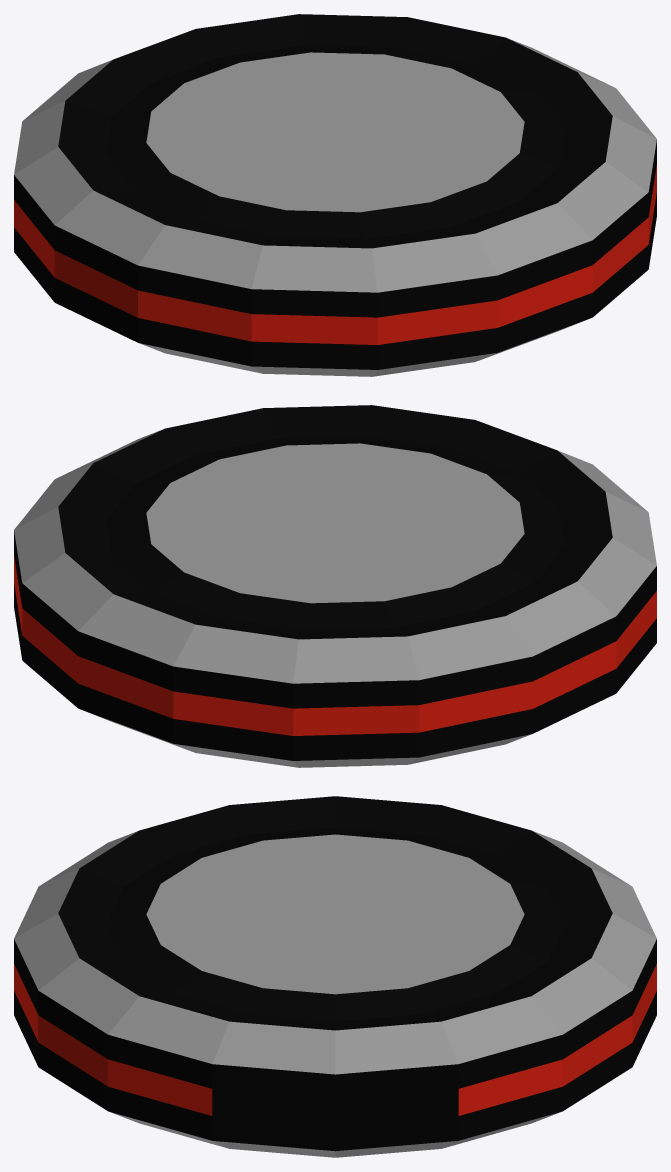
File: RoombaModel.fbx
3 renders of one model, top to bottom at view 1: azimuth 30°, elevation 25°; view 2: azimuth 150°, elevation 25°; view 3: azimuth 270°, elevation 25°, orthographic.
Parts seen in each view (by area): view 1: Romba; view 2: Romba; view 3: Romba.
Boxes of the visible parts, left/top/right/bottom form: Romba: left=14, top=14, right=656, bottom=376; Romba: left=14, top=405, right=656, bottom=767; Romba: left=14, top=796, right=656, bottom=1157.
Bounding box in the file's own units: 100 × 21.84 × 100.
